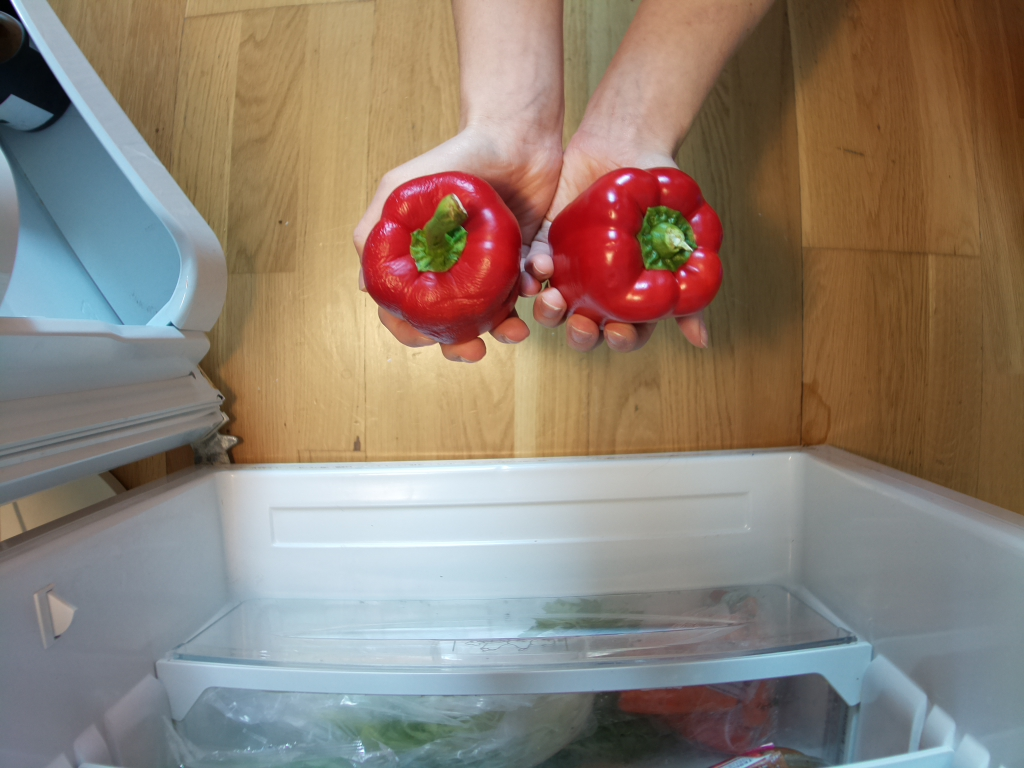pepper: (547, 167, 725, 325)
pepper-bad: (360, 170, 522, 346)
